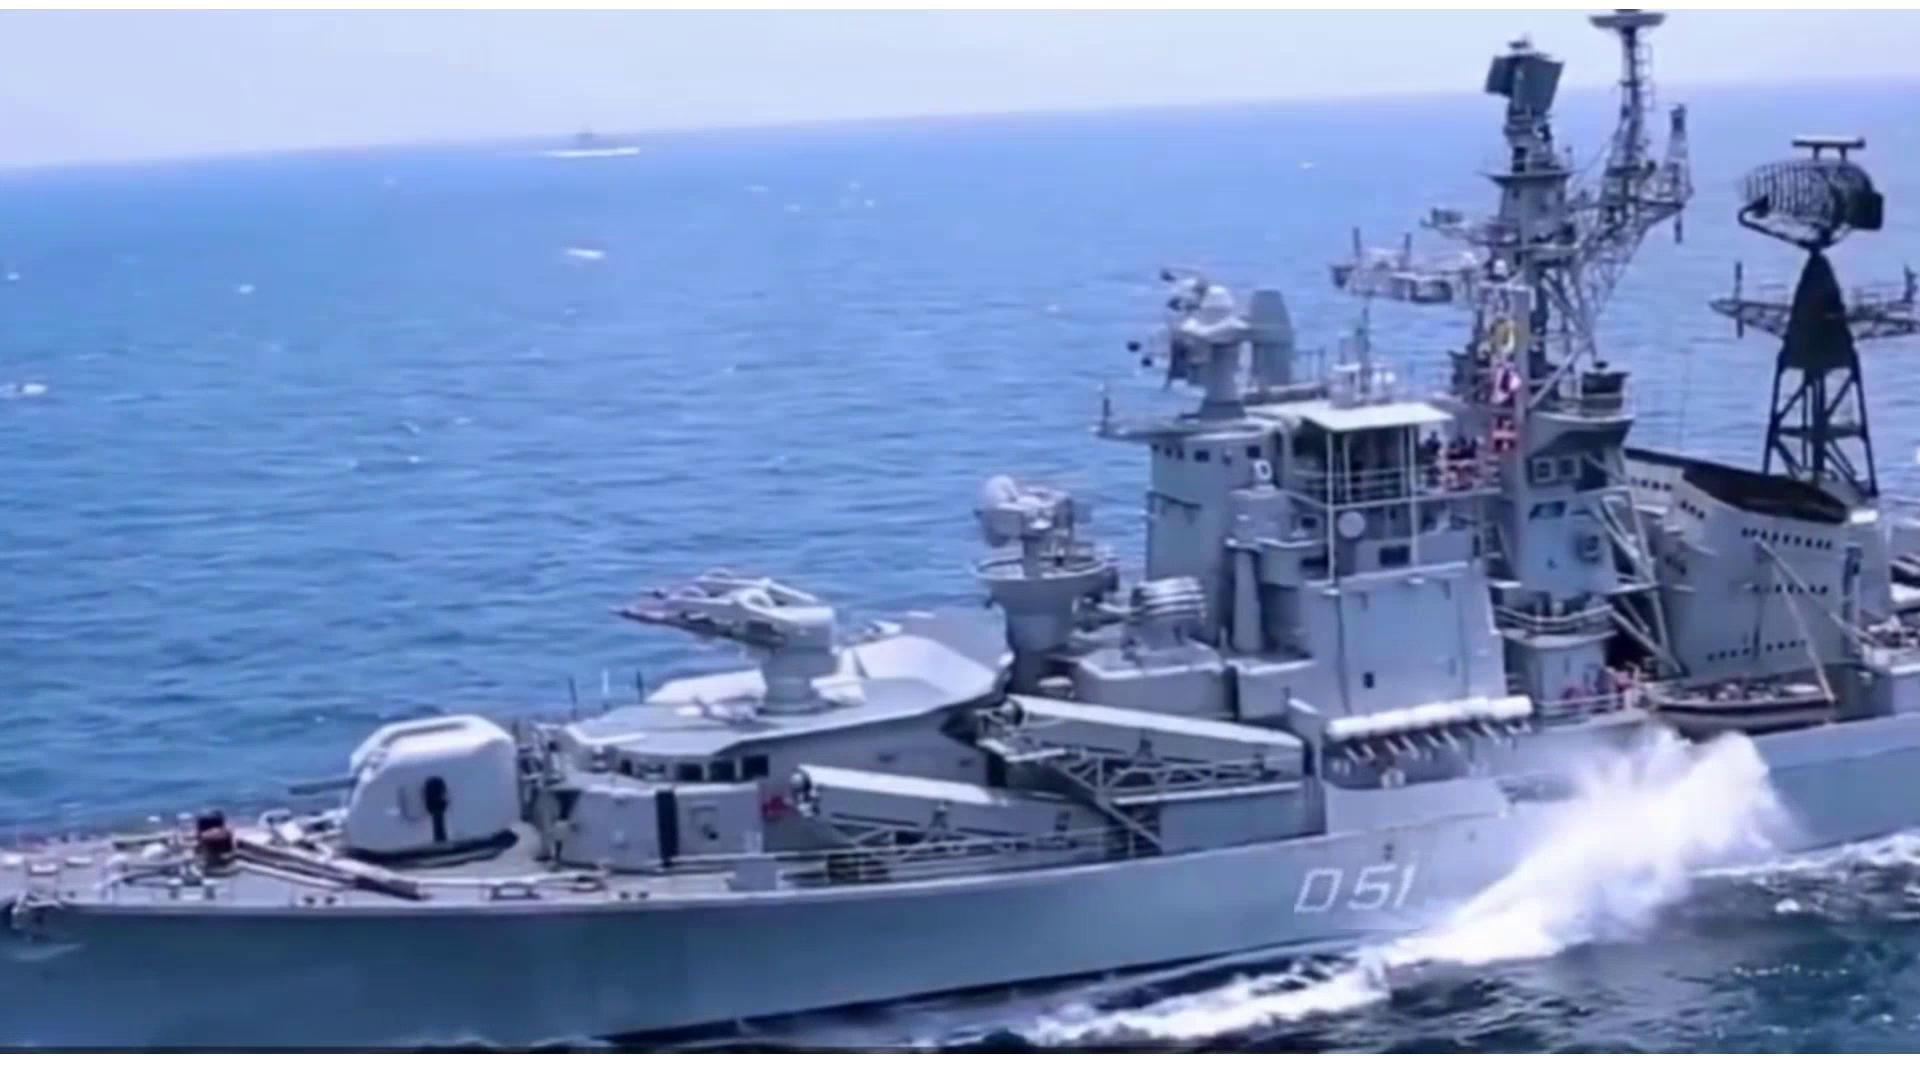OCR: (1294, 844, 1433, 928)
